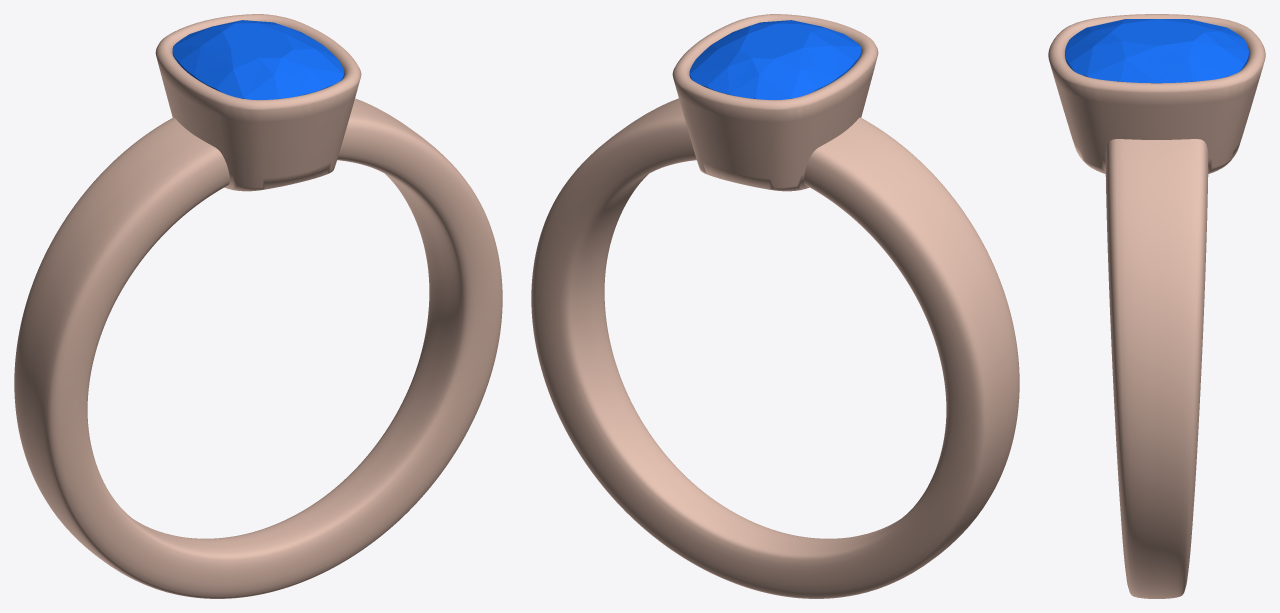
File: bluesapphire-cushion-rosegold-bezelset-straighttaperedband-nosidestones.glb
3 renders of one model, left to right at view 1: azimuth 30°, elevation 25°; view 2: azimuth 150°, elevation 25°; view 3: azimuth 270°, elevation 25°, orthographic.
Parts seen in each view (by area): view 1: metal.001, stone; view 2: metal.001, stone; view 3: metal.001, stone.
Boxes of the visible parts, x1=… form: metal.001: x1=14, y1=14, x2=502, y2=598; stone: x1=172, y1=20, x2=344, y2=99; metal.001: x1=531, y1=14, x2=1019, y2=598; stone: x1=689, y1=20, x2=861, y2=99; metal.001: x1=1048, y1=14, x2=1265, y2=598; stone: x1=1065, y1=19, x2=1248, y2=83.
Size of the model in its own units: 20.48 by 23.24 by 8.45.
